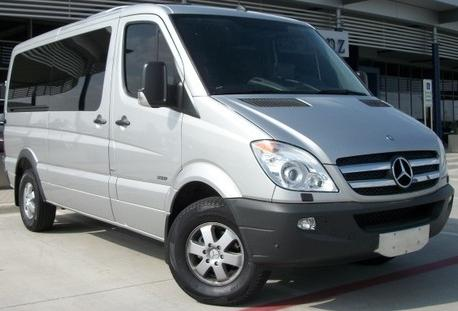front_view: (245, 126, 458, 265)
headlight: (249, 144, 347, 204)
side_glass: (52, 27, 188, 116)
